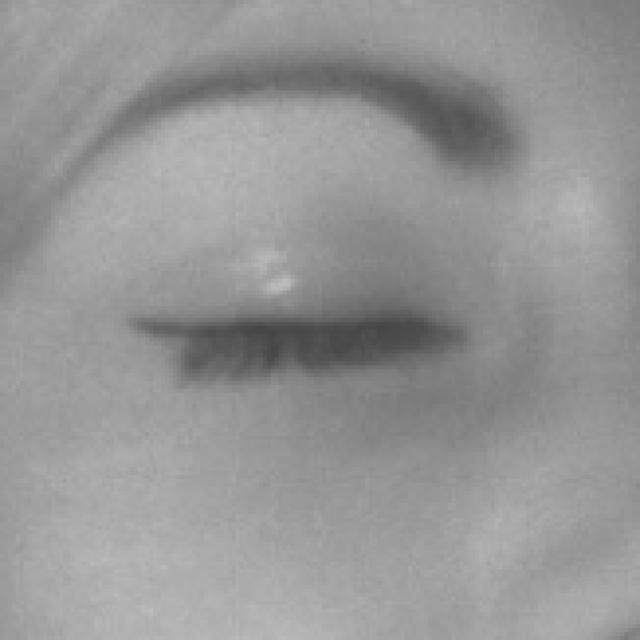Eyeclosed: (108, 189, 469, 475)
